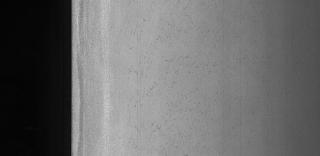silk spot: (123, 5, 215, 142)
